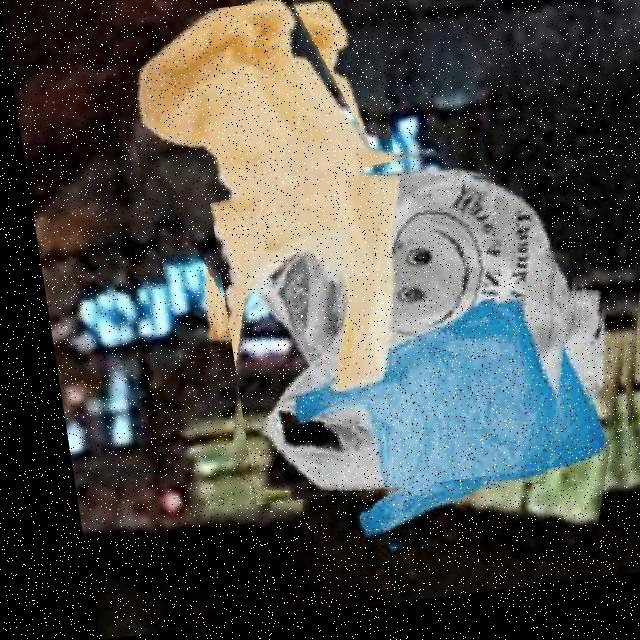litter: (198, 135, 603, 510), (105, 0, 415, 415), (264, 258, 640, 591)
